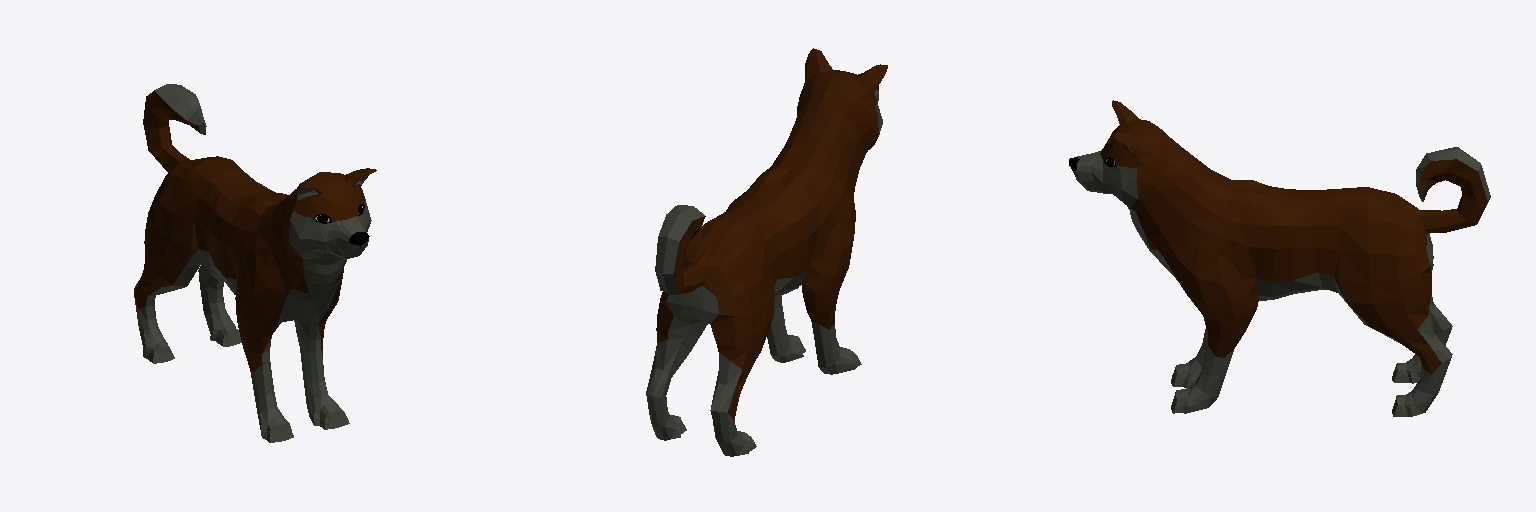
File: siba.obj
3 renders of one model, left to right at view 1: azimuth 30°, elevation 25°; view 2: azimuth 150°, elevation 25°; view 3: azimuth 270°, elevation 25°, orthographic.
Visible parts, largest first — view 1: ShibaInu; view 2: ShibaInu; view 3: ShibaInu.
Boxes of the visible parts, <box> form: ShibaInu: <box>134,84,376,442</box>; ShibaInu: <box>646,48,887,456</box>; ShibaInu: <box>1069,100,1490,416</box>.
Size of the model in its own units: 1.07 by 3.04 by 4.19.